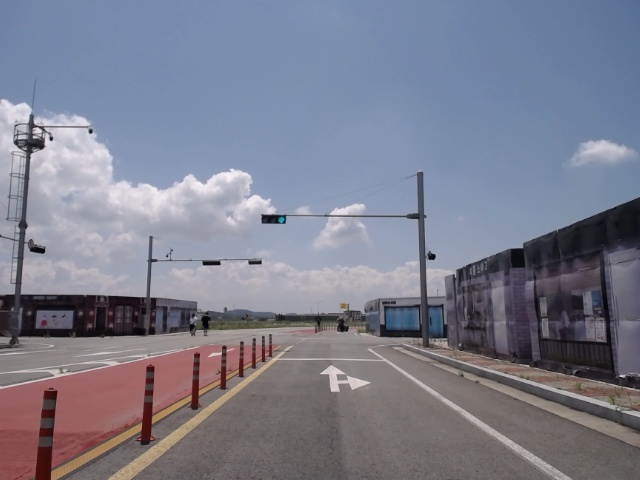green_3: (261, 215, 286, 224)
